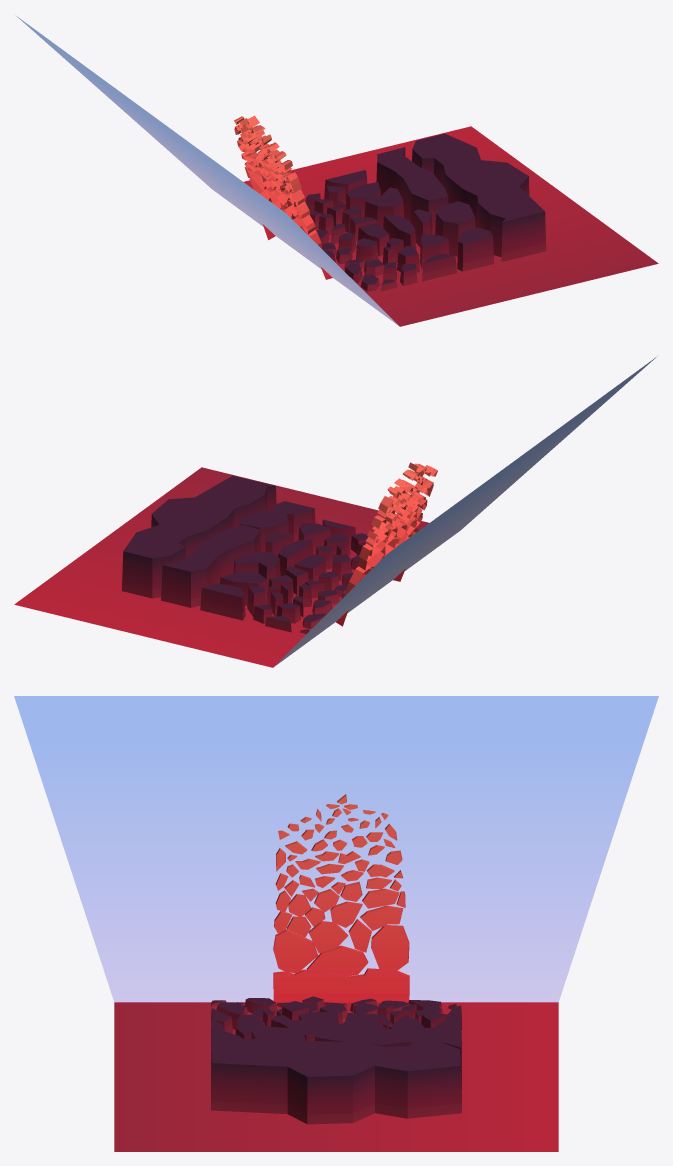
Rendered from lev_4.fbx.
3 views of the same model, one above another, from view 1: azimuth 30°, elevation 25°; view 2: azimuth 150°, elevation 25°; view 3: azimuth 270°, elevation 25° (orthographic). The views are drawn at different scales.
Visible parts, largest first — view 1: lev_gra_5; view 2: lev_gra_5; view 3: lev_gra_5.
Part boxes in pixels (x1,y1,x2,y2): lev_gra_5: (14, 14, 658, 326); lev_gra_5: (14, 355, 658, 667); lev_gra_5: (14, 696, 658, 1151).
Bounding box in the file's own units: 28021 × 11977 × 31849.
